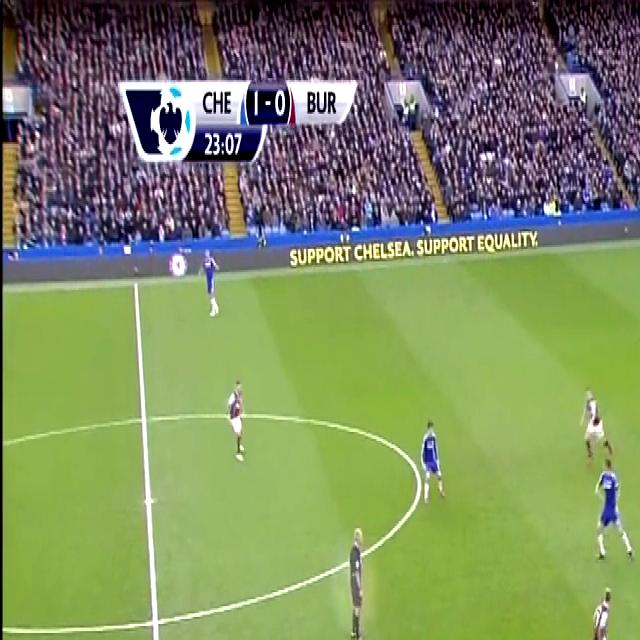soccer-player: (590, 448, 640, 565), (339, 517, 371, 640), (578, 373, 616, 472), (421, 413, 450, 511), (224, 369, 252, 469), (586, 576, 624, 640), (199, 243, 220, 320)
